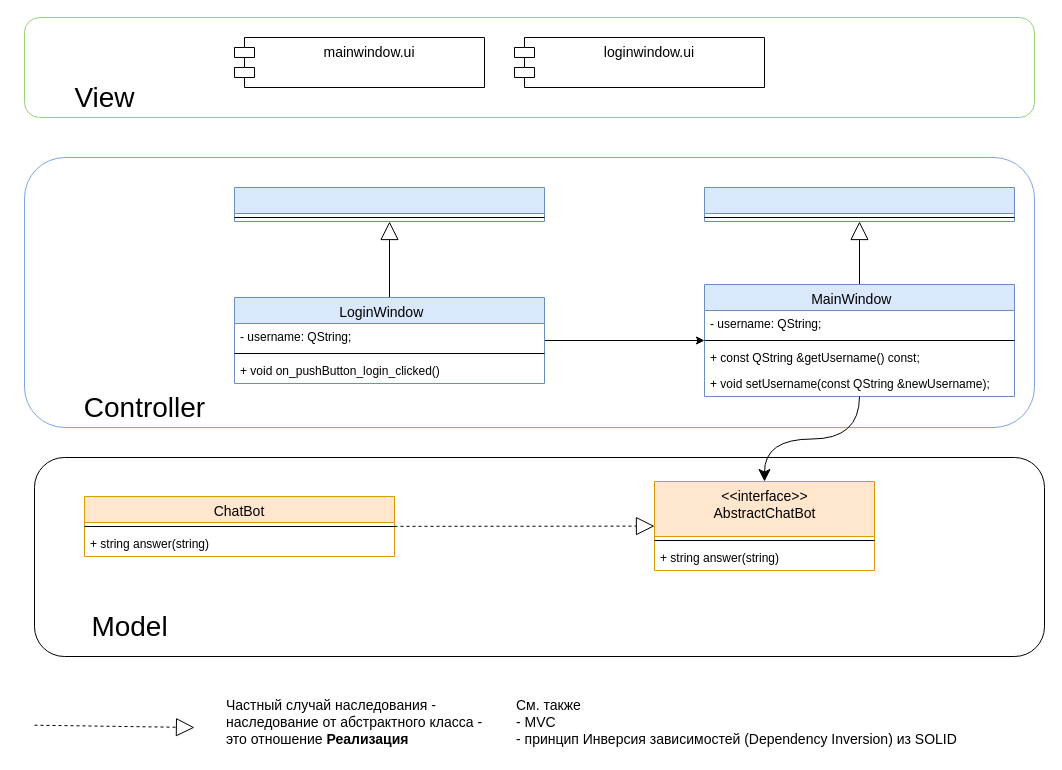
This 1062x770 diagram has some shape labels left out. The centre of each missing label's shape, as x and y in pixels:
QMainWindow: the point at 859,204
QWidget: the point at 389,204
